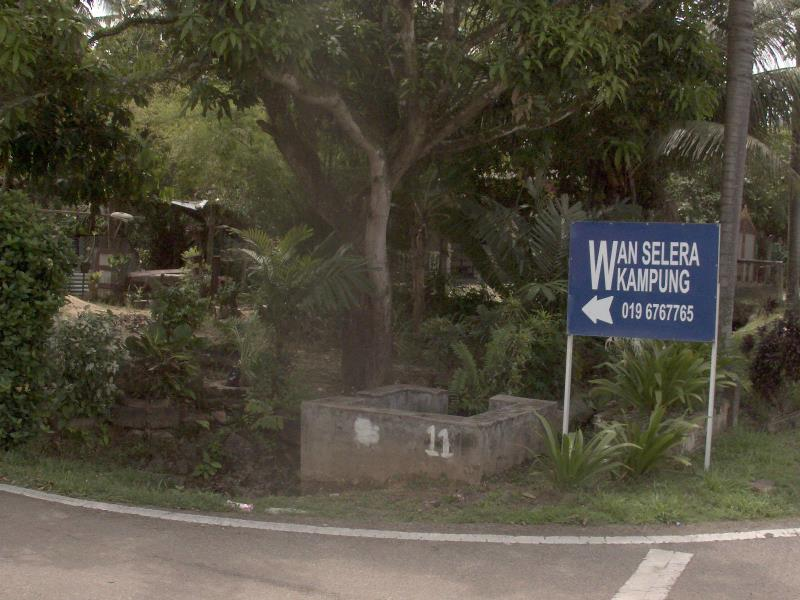ads_sign: (553, 213, 735, 356)
